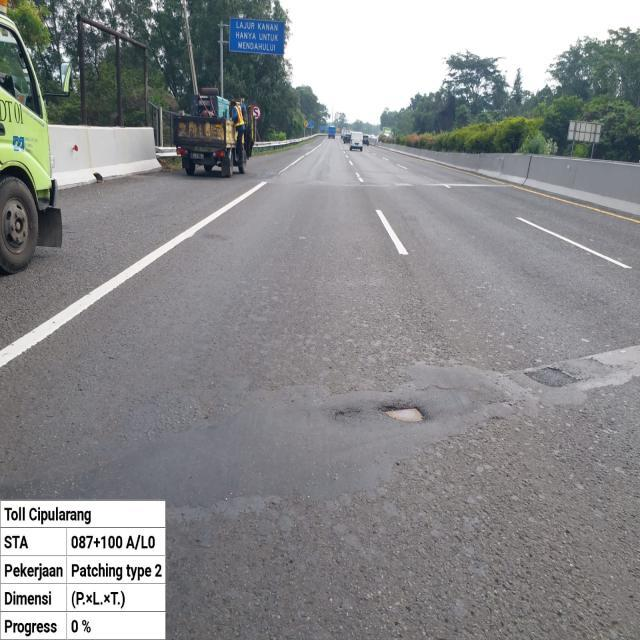Buraco: (375, 402, 430, 425)
